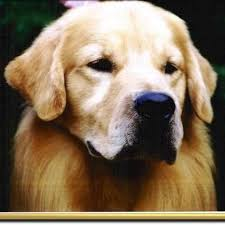Bulldog: (6, 2, 220, 209)
